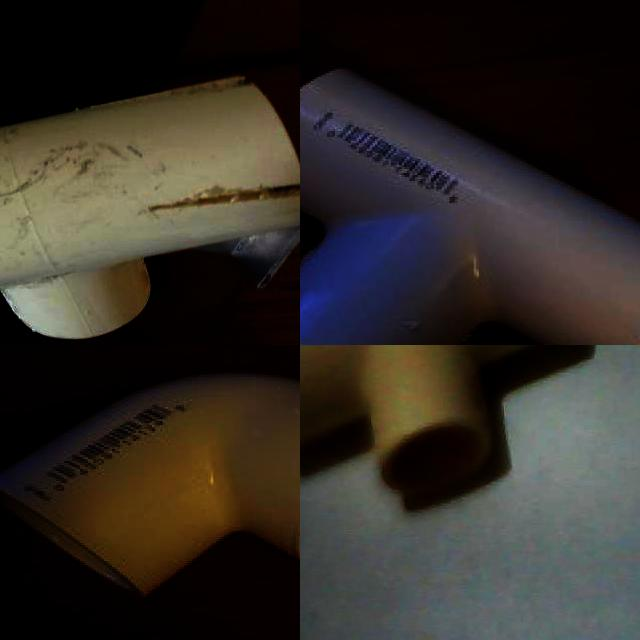Defective: (145, 185, 300, 225), (167, 80, 287, 126)
L Joint: (0, 373, 300, 600)
T Joint: (300, 68, 640, 345), (0, 76, 300, 343), (300, 345, 596, 513)
